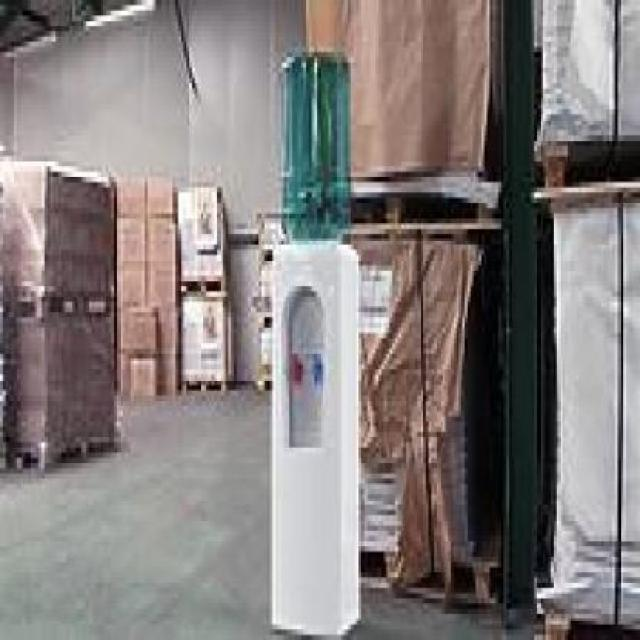cooler: (268, 46, 362, 640)
